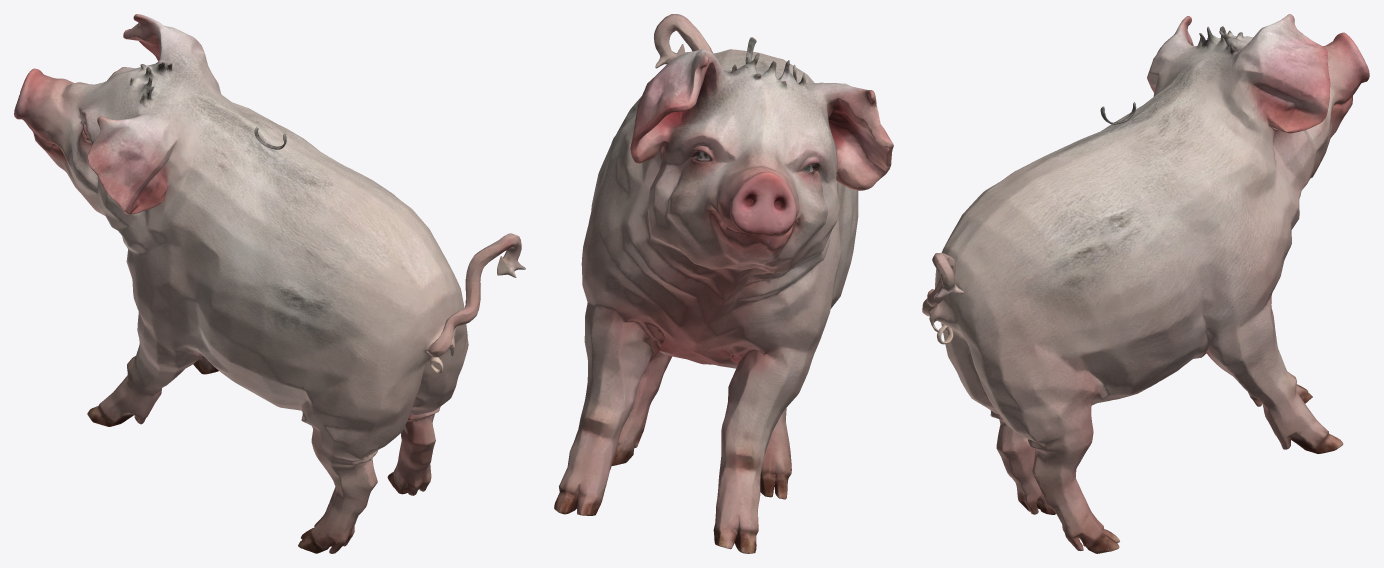
File: pixal3d.glb
The picture shows the model from 3 angles, left to right: view 1: azimuth 30°, elevation 25°; view 2: azimuth 150°, elevation 25°; view 3: azimuth 270°, elevation 25°; orthographic projection. The views are drawn at different scales.
Parts seen in each view (by area): view 1: world; view 2: world; view 3: world.
Boxes of the visible parts, x1,y1,x2,y2 form: world: (14,14,525,553); world: (554,14,893,553); world: (922,14,1369,553).
Size of the model in its own units: 0.6121 by 0.8638 by 0.7494.
Materials: 1 (1 with a texture image).
